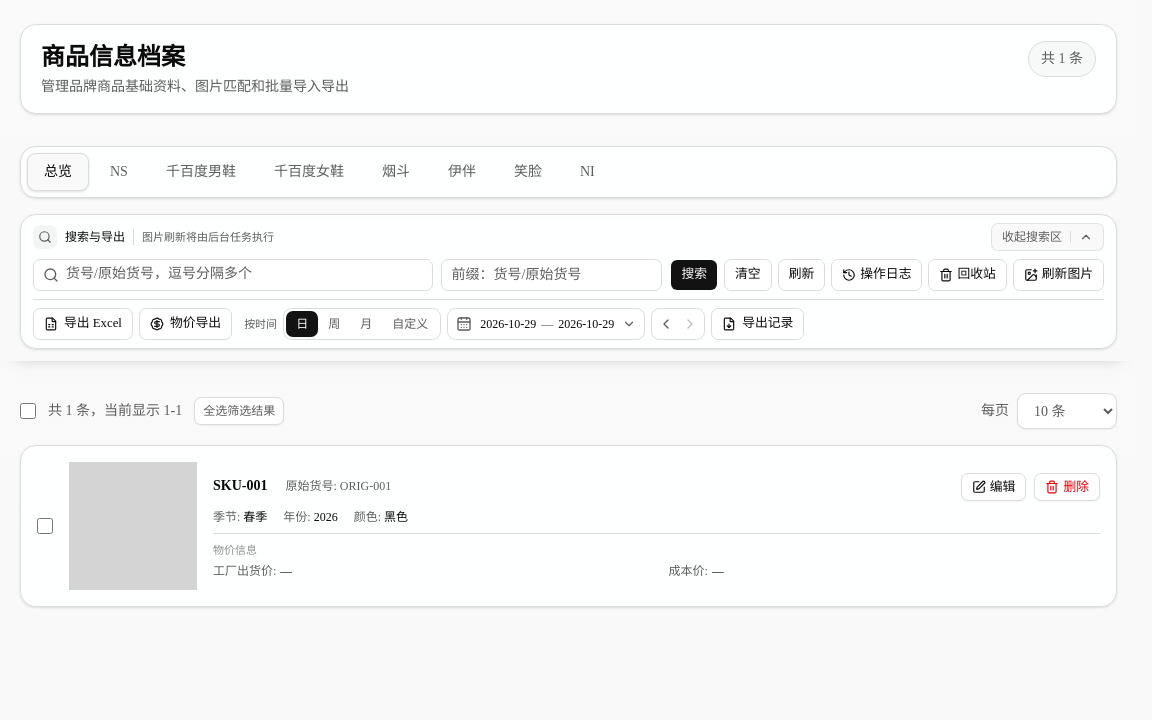
Test: ProductAdminPage › opens the delete confirmation from the total overview
Expected: the button with test id "card-title-1" is shown, [213,476,286,496]
Click the tab "总览": (58,172) [27,153,89,191]
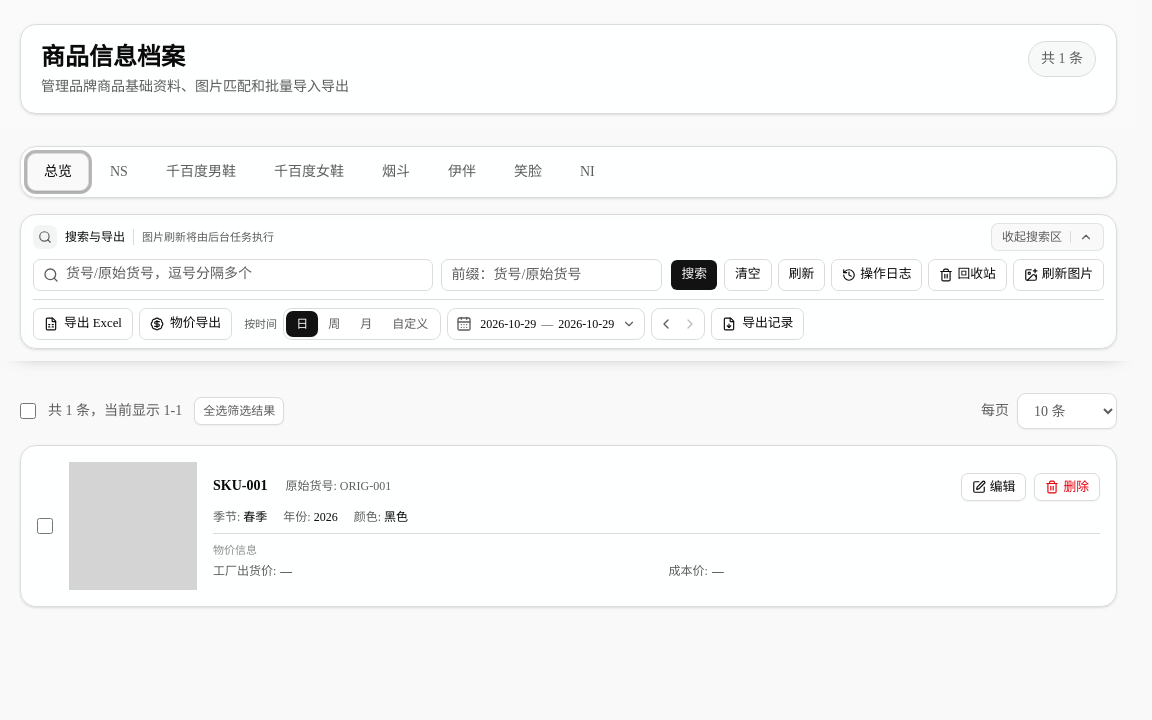
Click the button "删除": (1067,487) [1034,473,1100,501]
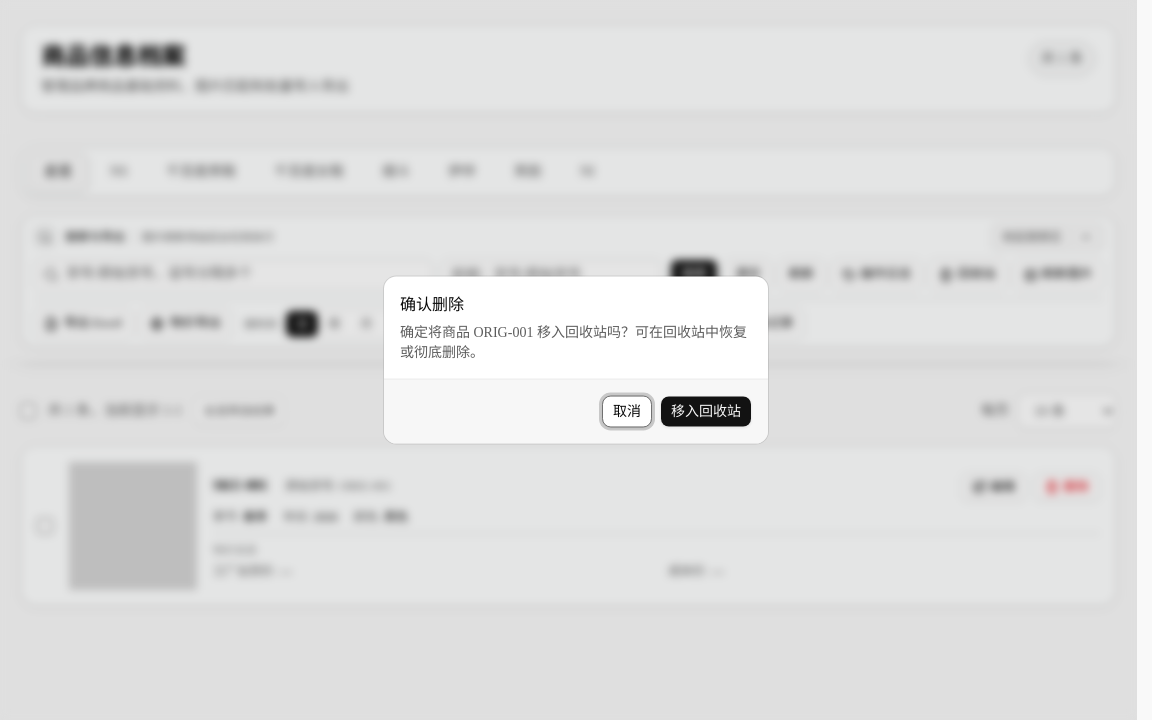
Expected: the text "确定将商品 ORIG-001 移入回收站吗？可在回收站中恢复或彻底删除。" is shown, [400,322,752,362]
